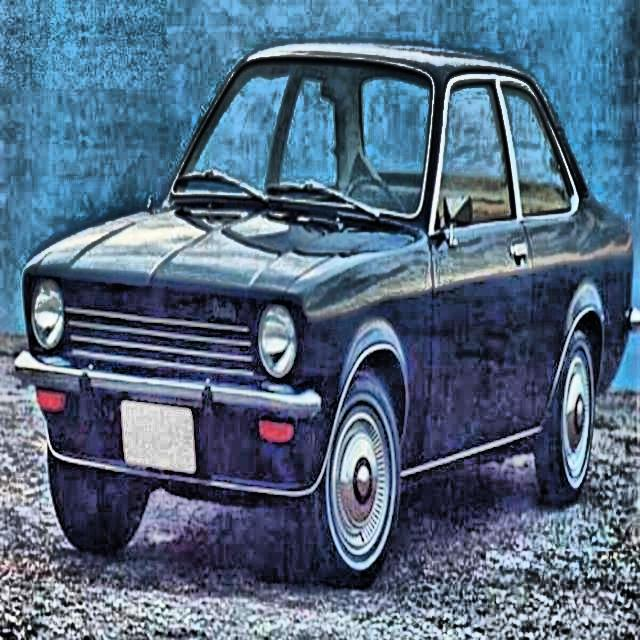carro: (17, 42, 640, 580)
